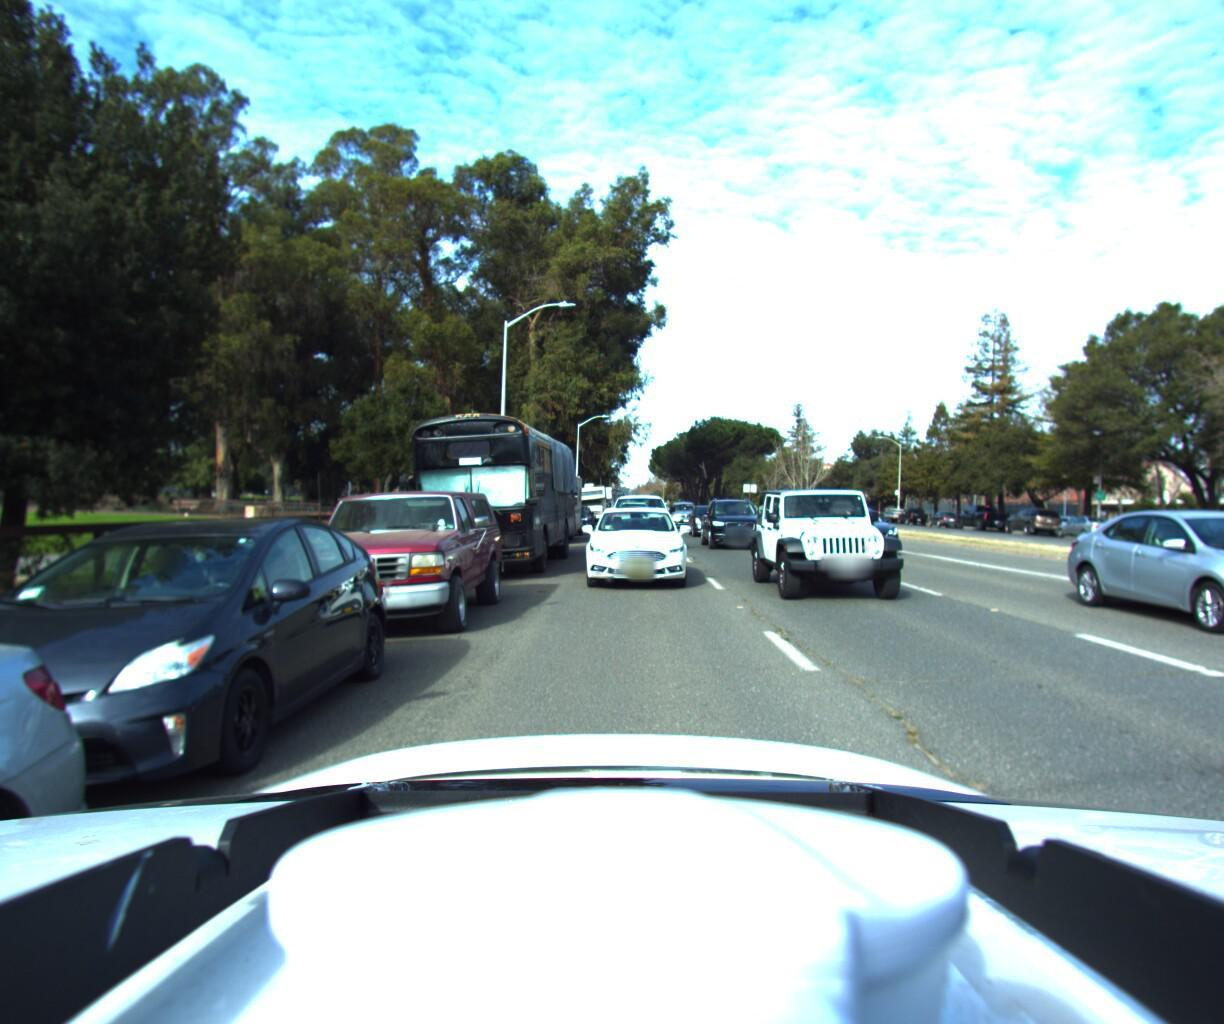bus: (387, 383, 585, 587)
car: (0, 509, 403, 827), (280, 480, 519, 642), (753, 479, 936, 608), (1085, 495, 1224, 649), (586, 495, 694, 589), (813, 503, 917, 559), (701, 491, 773, 549), (608, 487, 672, 544), (686, 499, 737, 539), (1052, 513, 1124, 538), (1002, 510, 1066, 534), (665, 500, 702, 526), (560, 503, 595, 531), (923, 506, 965, 526), (875, 504, 911, 521)
other_vehicle: (502, 456, 587, 547), (563, 477, 613, 525), (582, 482, 622, 522)
